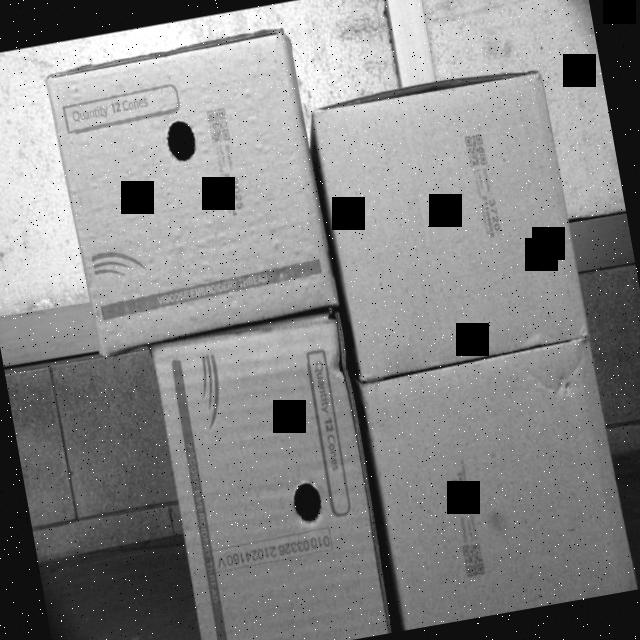box: (48, 26, 335, 357), (312, 65, 588, 378), (151, 300, 397, 640), (361, 336, 634, 628)
